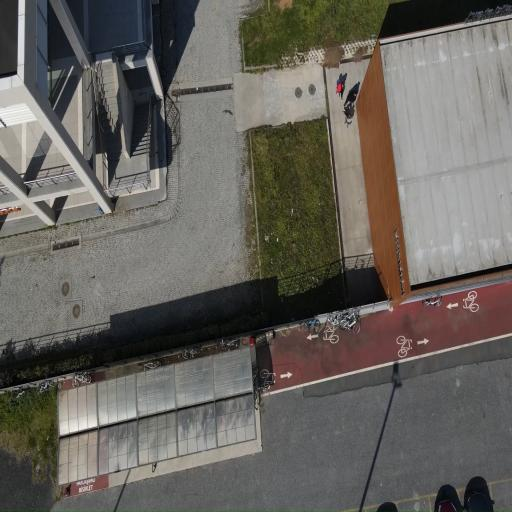person: (344, 103, 354, 125), (344, 90, 357, 105), (336, 81, 344, 100)
